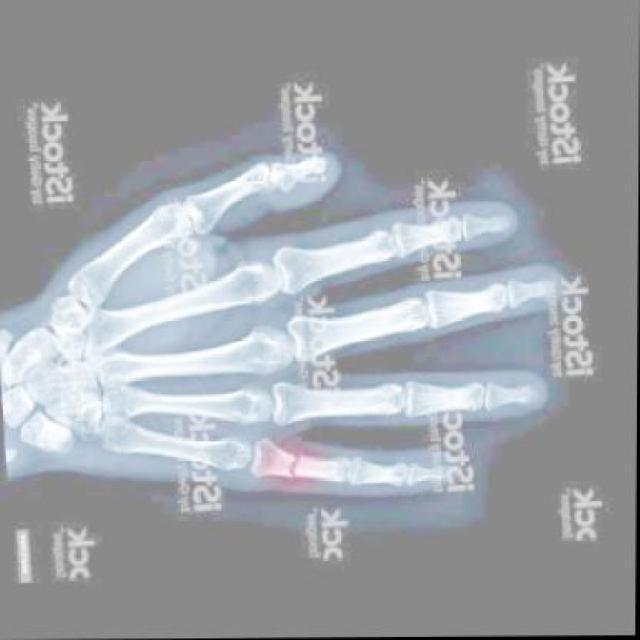Fracture: (277, 444, 324, 482)
